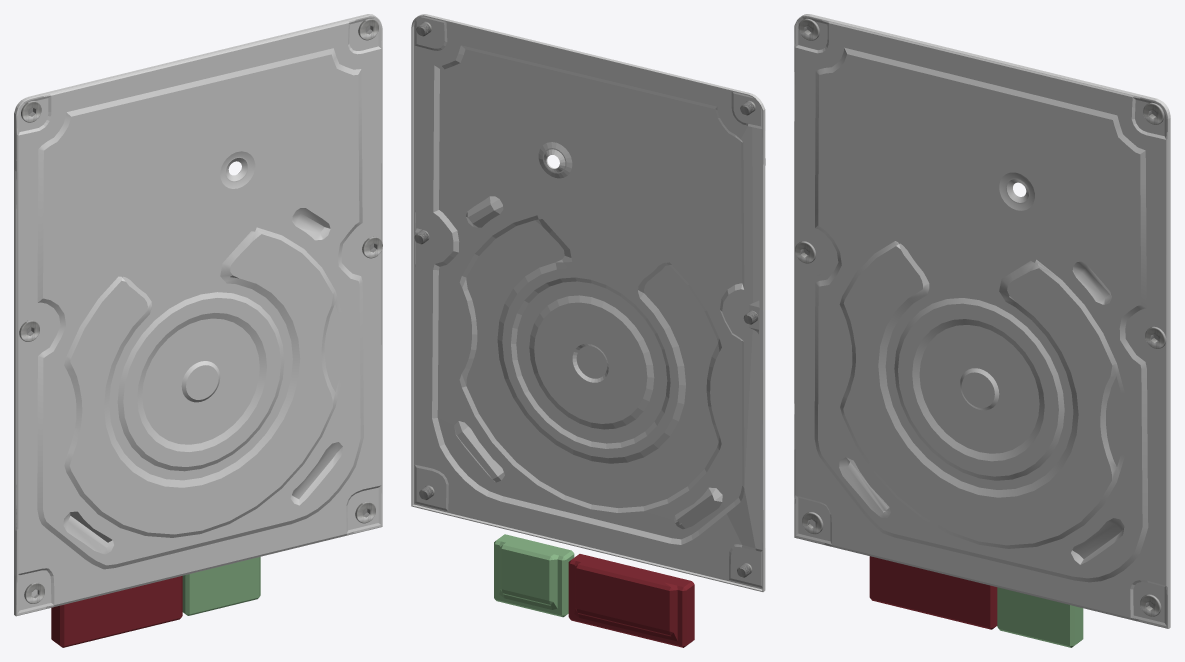
File: hdd.glb
The picture shows the model from 3 angles, left to right: view 1: azimuth 30°, elevation 25°; view 2: azimuth 150°, elevation 25°; view 3: azimuth 330°, elevation 25°; orthographic projection. The views are drawn at different scales.
Visible parts, largest first — view 1: Deckel, Cube.014, Cube.015; view 2: Deckel, Cube.014, Cube.015; view 3: Deckel, Cube.014, Cube.015.
Boxes of the visible parts, x1=… form: Deckel: x1=14, y1=14, x2=382, y2=616; Cube.014: x1=51, y1=576, x2=182, y2=647; Cube.015: x1=182, y1=557, x2=260, y2=615; Deckel: x1=411, y1=14, x2=765, y2=591; Cube.014: x1=568, y1=554, x2=694, y2=647; Cube.015: x1=494, y1=534, x2=574, y2=617; Deckel: x1=794, y1=14, x2=1170, y2=628; Cube.014: x1=869, y1=556, x2=997, y2=629; Cube.015: x1=997, y1=587, x2=1083, y2=647.
Size of the model in its own units: 0.0701 by 0.1045 by 0.0104.
Materials: 4 (1 with a texture image).
